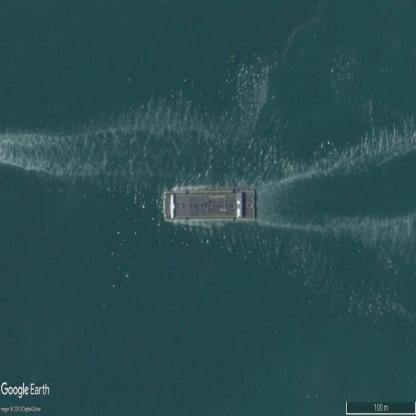ship: (163, 187, 255, 224)
